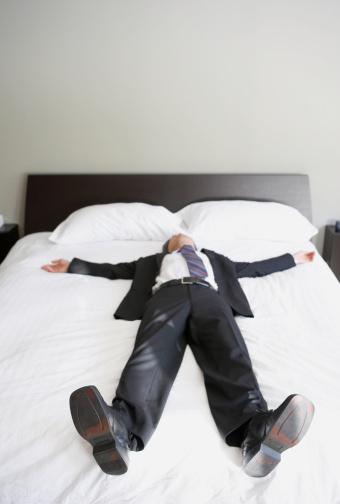deitado: (19, 181, 334, 485)
